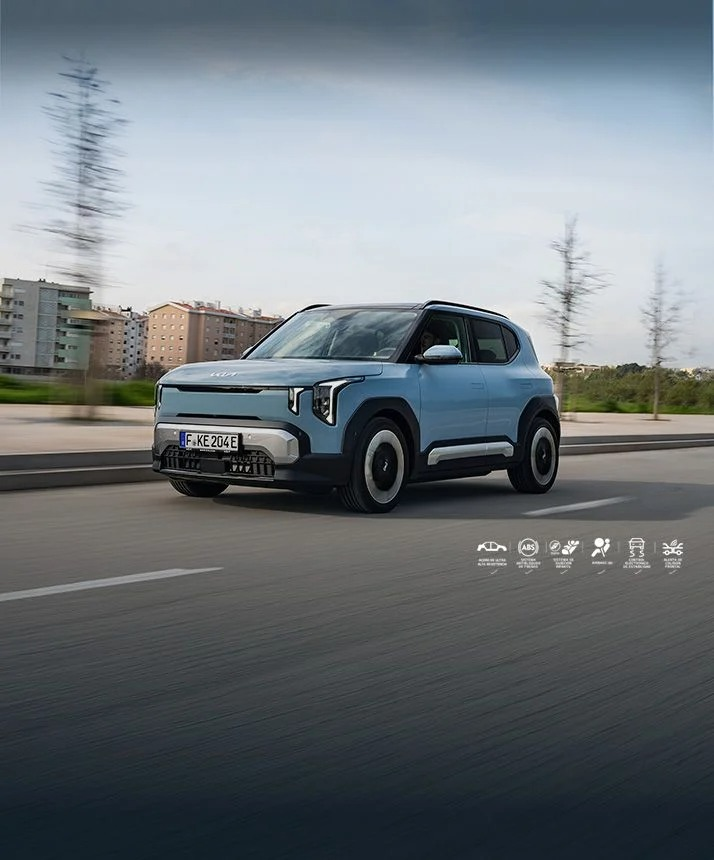car: (163, 296, 556, 516)
